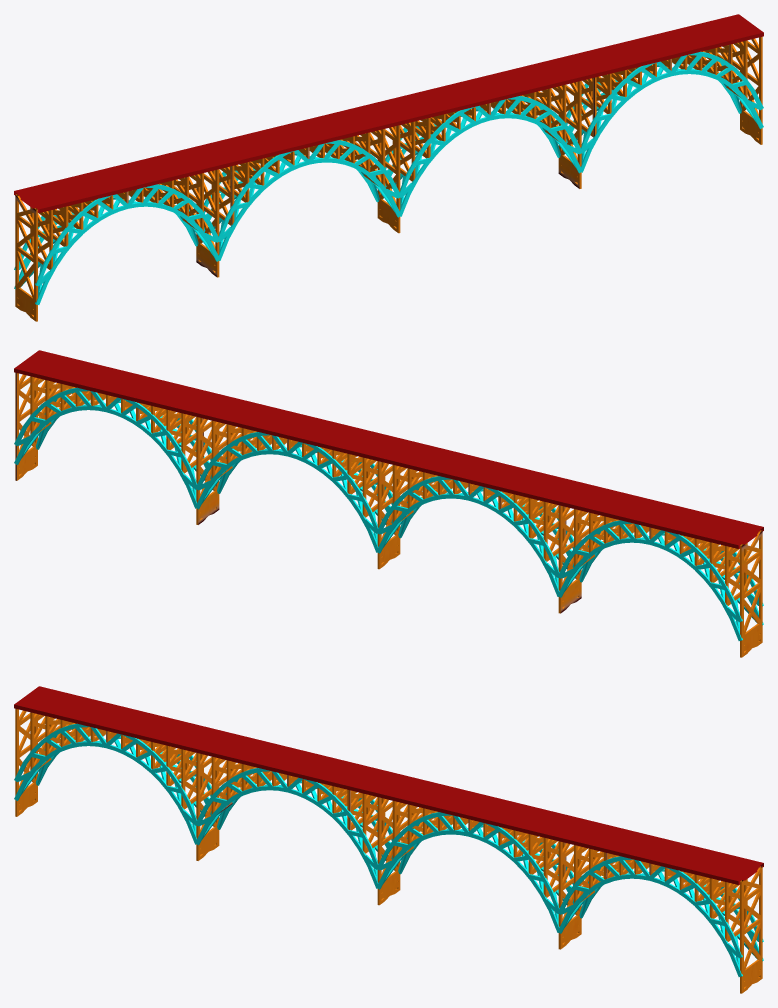
File: Bridge.obj
3 views of the same model, one above another, from view 1: azimuth 30°, elevation 25°; view 2: azimuth 150°, elevation 25°; view 3: azimuth 330°, elevation 25° (orthographic).
Visible parts, largest first — view 1: Bridge.329, Bridge.427, Bridge.126, Bridge.036_Bridge.464, Bridge.091; view 2: Bridge.329, Bridge.427, Bridge.126, Bridge.036_Bridge.464, Bridge.091; view 3: Bridge.329, Bridge.427, Bridge.126, Bridge.036_Bridge.464, Bridge.091.
Part boxes in pixels (x1,y1,x2,y2): Bridge.329: [14, 14, 763, 212]; Bridge.427: [14, 51, 763, 304]; Bridge.126: [30, 40, 747, 269]; Bridge.036_Bridge.464: [15, 36, 762, 321]; Bridge.091: [20, 63, 756, 295]; Bridge.329: [14, 350, 763, 548]; Bridge.427: [14, 387, 763, 640]; Bridge.126: [30, 376, 747, 605]; Bridge.036_Bridge.464: [15, 372, 762, 657]; Bridge.091: [21, 399, 757, 631]; Bridge.329: [14, 686, 763, 884]; Bridge.427: [14, 723, 763, 976]; Bridge.126: [30, 712, 747, 941]; Bridge.036_Bridge.464: [15, 708, 762, 993]; Bridge.091: [21, 735, 757, 967].
Size of the model in its own units: 20.39 by 3.05 by 1.22.
3 materials, 3 textured.
